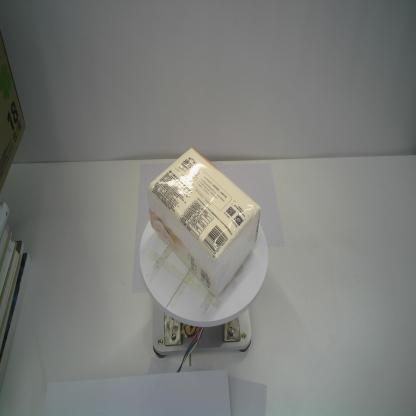Tissue: (146, 146, 261, 297)
